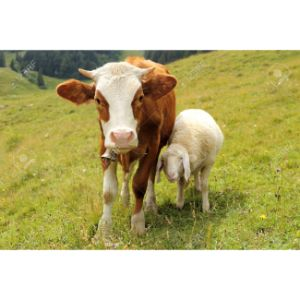cow: (55, 54, 159, 239)
sheep: (162, 108, 225, 215)
